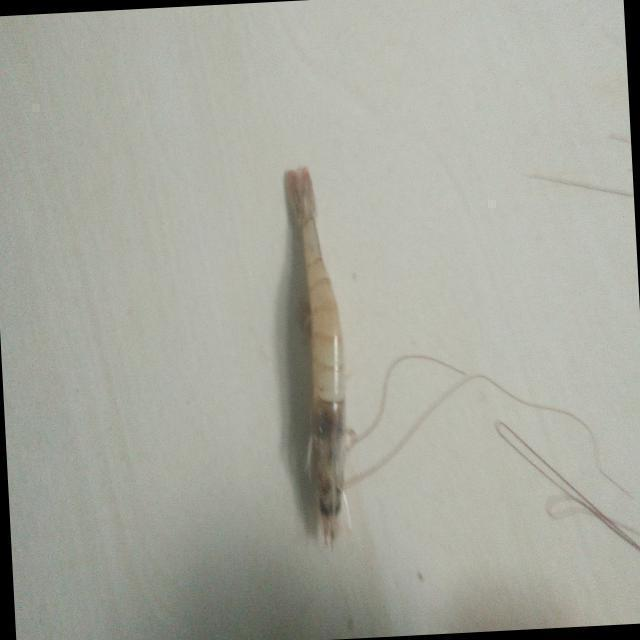shrimp: (286, 167, 345, 542)
